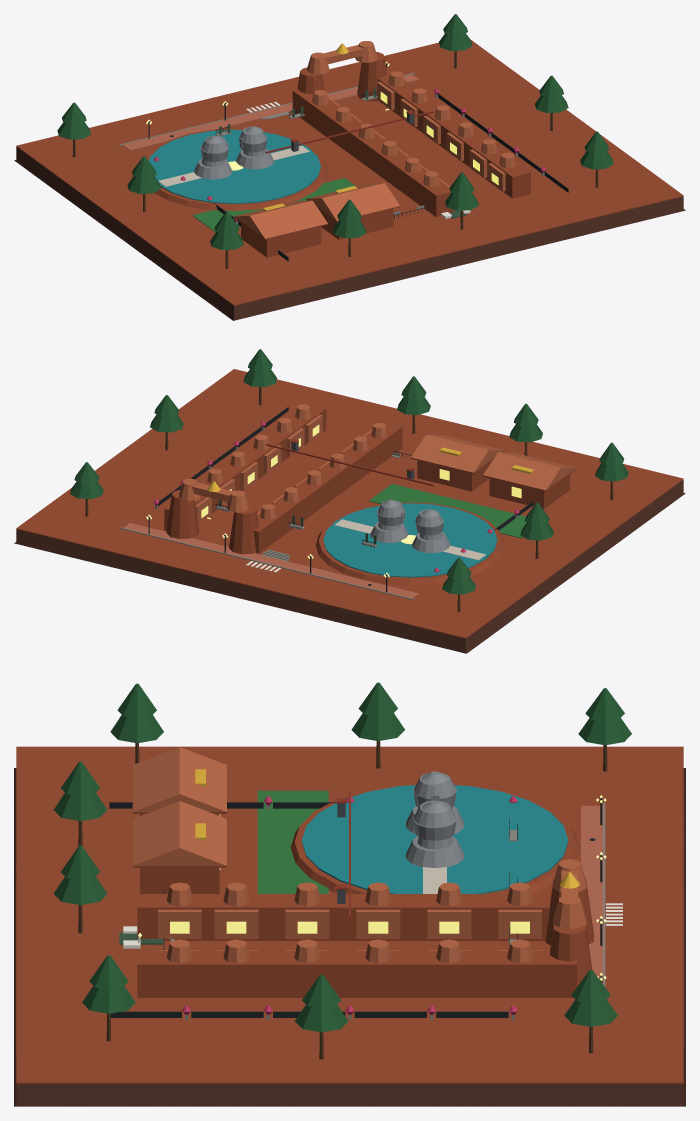
File: lm_32_duong_ham_dieu_khac.glb
3 views of the same model, one above another, from view 1: azimuth 30°, elevation 25°; view 2: azimuth 150°, elevation 25°; view 3: azimuth 270°, elevation 25° (orthographic). The views are drawn at different scales.
Visible parts, largest first — view 1: Foundation_Plinth_Trim, ClayTunnel_Red_Basalt_Walls, Foundation_Skirt, HoVoCuc_Infinity_Pool_Water, ClayPark_Pine_Canopies, ClayTunnel_Sculpted_Reliefs, HoVoCuc_KLang_HBiang_Giant_Heads, Basalt_Clay_Record_House_Roof_1, Basalt_Clay_Record_House_Roof_2, Phase2_Interlocking_Brick_Sidewalk, Phase2_WroughtIron_Balconies_Railings_Manholes, ClayPark_Lakeside_Lawns (+3 smaller); view 2: Foundation_Plinth_Trim, ClayTunnel_Red_Basalt_Walls, Foundation_Skirt, HoVoCuc_Infinity_Pool_Water, ClayPark_Pine_Canopies, ClayTunnel_Sculpted_Reliefs, HoVoCuc_KLang_HBiang_Giant_Heads, ClayPark_Lakeside_Lawns, Basalt_Clay_Record_House_Roof_1, Basalt_Clay_Record_House_Roof_2, Phase2_Interlocking_Brick_Sidewalk, Phase2_Granite_Curb_And_Entry_Steps (+5 smaller); view 3: Foundation_Plinth_Trim, ClayTunnel_Red_Basalt_Walls, HoVoCuc_Infinity_Pool_Water, Foundation_Skirt, ClayPark_Pine_Canopies, ClayTunnel_Sculpted_Reliefs, Basalt_Clay_Record_House_Roof_2, Basalt_Clay_Record_House_Roof_1, ClayPark_Lakeside_Lawns, HoVoCuc_KLang_HBiang_Giant_Heads, Phase2_WroughtIron_Balconies_Railings_Manholes, Phase2_Interlocking_Brick_Sidewalk (+3 smaller).
Boxes of the visible parts, x1=… form: Foundation_Plinth_Trim: x1=16, y1=39, x2=683, y2=305; ClayTunnel_Red_Basalt_Walls: x1=146, y1=52, x2=530, y2=257; Foundation_Skirt: x1=14, y1=147, x2=685, y2=320; HoVoCuc_Infinity_Pool_Water: x1=149, y1=129, x2=320, y2=203; ClayPark_Pine_Canopies: x1=57, y1=14, x2=613, y2=250; ClayTunnel_Sculpted_Reliefs: x1=307, y1=41, x2=515, y2=191; HoVoCuc_KLang_HBiang_Giant_Heads: x1=194, y1=126, x2=273, y2=179; Basalt_Clay_Record_House_Roof_1: x1=235, y1=200, x2=327, y2=238; Basalt_Clay_Record_House_Roof_2: x1=307, y1=183, x2=399, y2=221; Phase2_Interlocking_Brick_Sidewalk: x1=122, y1=74, x2=419, y2=150; Phase2_WroughtIron_Balconies_Railings_Manholes: x1=148, y1=63, x2=568, y2=261; ClayPark_Lakeside_Lawns: x1=192, y1=178, x2=356, y2=232; Foundation_Plinth_Trim: x1=16, y1=369, x2=683, y2=638; ClayTunnel_Red_Basalt_Walls: x1=164, y1=404, x2=569, y2=585; Foundation_Skirt: x1=14, y1=480, x2=685, y2=653; HoVoCuc_Infinity_Pool_Water: x1=323, y1=503, x2=497, y2=577; ClayPark_Pine_Canopies: x1=70, y1=349, x2=628, y2=594; ClayTunnel_Sculpted_Reliefs: x1=178, y1=404, x2=387, y2=523; HoVoCuc_KLang_HBiang_Giant_Heads: x1=370, y1=499, x2=450, y2=552; ClayPark_Lakeside_Lawns: x1=369, y1=483, x2=526, y2=538; Basalt_Clay_Record_House_Roof_1: x1=483, y1=452, x2=575, y2=490; Basalt_Clay_Record_House_Roof_2: x1=411, y1=434, x2=503, y2=472; Phase2_Interlocking_Brick_Sidewalk: x1=123, y1=523, x2=418, y2=598; Phase2_Granite_Curb_And_Entry_Steps: x1=119, y1=427, x2=518, y2=600; Foundation_Plinth_Trim: x1=16, y1=746, x2=683, y2=1083; ClayTunnel_Red_Basalt_Walls: x1=137, y1=783, x2=593, y2=997; HoVoCuc_Infinity_Pool_Water: x1=301, y1=785, x2=568, y2=893; Foundation_Skirt: x1=14, y1=768, x2=685, y2=1106; ClayPark_Pine_Canopies: x1=53, y1=682, x2=631, y2=1032; ClayTunnel_Sculpted_Reliefs: x1=158, y1=859, x2=586, y2=963; Basalt_Clay_Record_House_Roof_2: x1=132, y1=801, x2=226, y2=865; Basalt_Clay_Record_House_Roof_1: x1=132, y1=747, x2=226, y2=811; ClayPark_Lakeside_Lawns: x1=257, y1=790, x2=328, y2=893; HoVoCuc_KLang_HBiang_Giant_Heads: x1=406, y1=771, x2=463, y2=867; Phase2_WroughtIron_Balconies_Railings_Manholes: x1=109, y1=798, x2=604, y2=1017; Phase2_Interlocking_Brick_Sidewalk: x1=581, y1=805, x2=603, y2=984.
Bounding box in the file's own units: 113 × 17.5 × 94.77.
